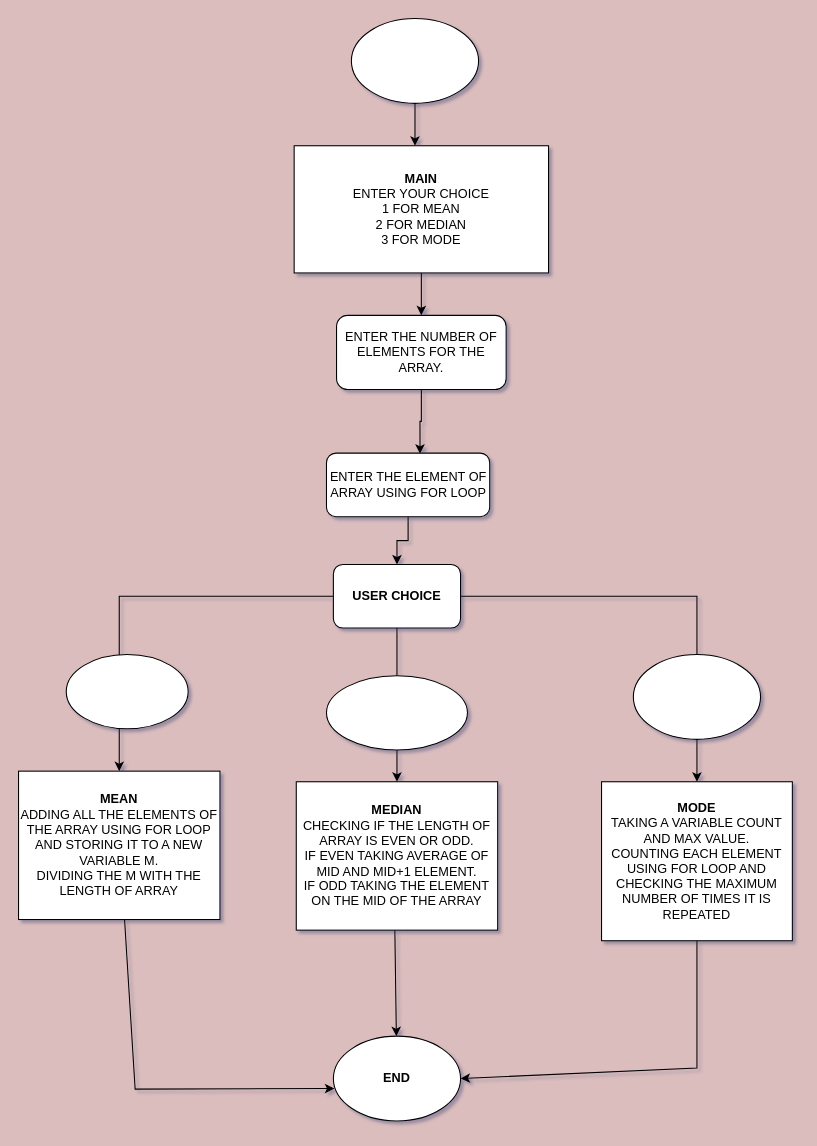
Image size: 817x1146. Some labels were removed from this diagram. Here are the shapes that lost their labels. From the top down, the centre of each, then its label:
pixel 414 60: START
pixel 126 691: USE CHOICE 1 CALLINF FUNC MEANF
pixel 696 696: USER CHOICE 3 CALLINF FUNC MODEF
pixel 396 712: USER CHOICE 2 CALLINF FUNC MEDIANF
